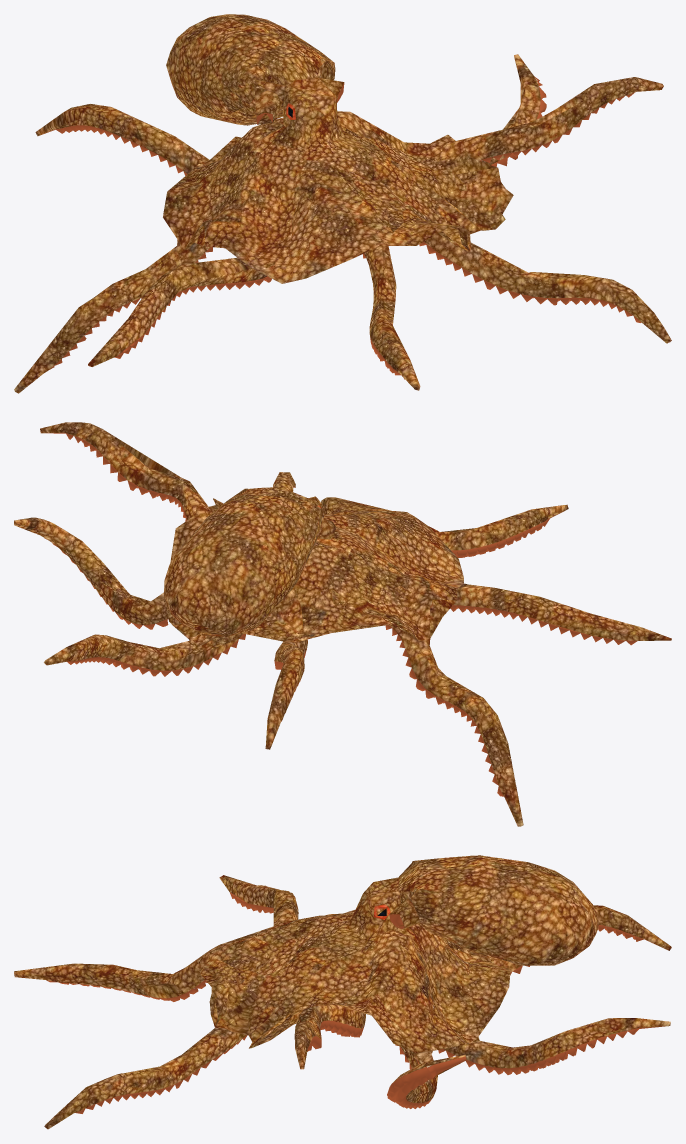
The model's file is octopus.glb.
3 renders of one model, top to bottom at view 1: azimuth 30°, elevation 25°; view 2: azimuth 150°, elevation 25°; view 3: azimuth 270°, elevation 25°, orthographic. The views are drawn at different scales.
Parts seen in each view (by area): view 1: Object_2, Object_3; view 2: Object_2, Object_3; view 3: Object_2, Object_3.
Boxes of the visible parts, x1,y1,x2,y2 form: Object_2: [14, 14, 671, 393]; Object_3: [115, 157, 641, 358]; Object_2: [14, 422, 671, 826]; Object_3: [129, 479, 637, 645]; Object_2: [14, 855, 671, 1129]; Object_3: [117, 890, 418, 1075].
Bounding box in the file's own units: 65.09 × 28.89 × 63.47.
1 material, 1 textured.
